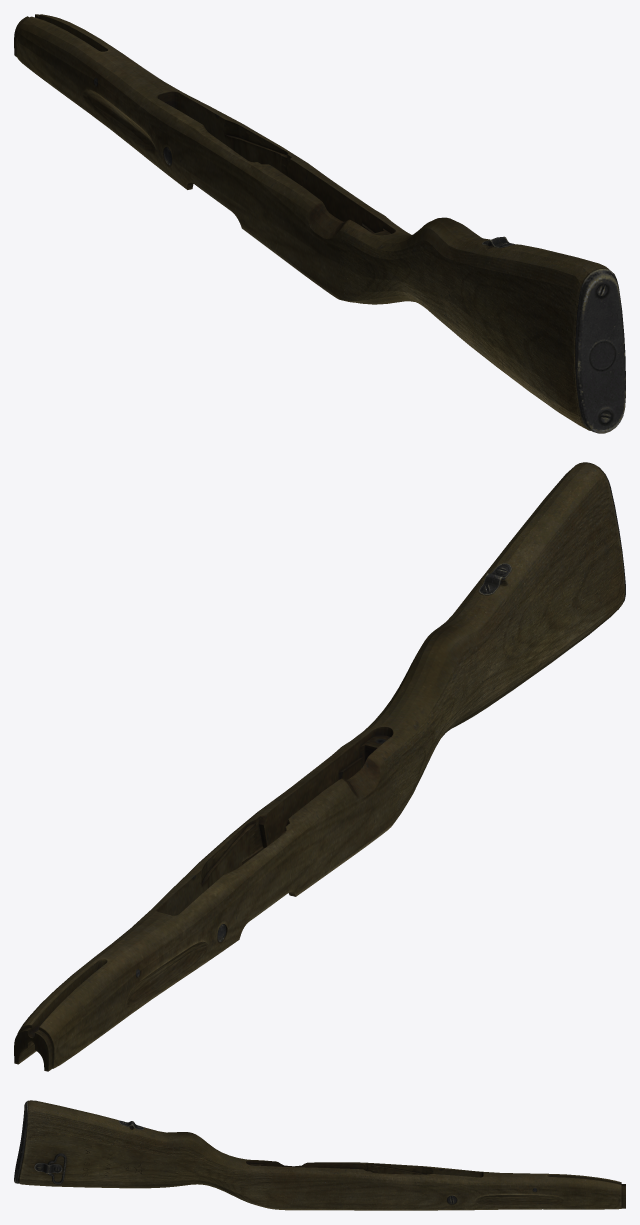
The picture shows the model from 3 angles, top to bottom: view 1: azimuth 30°, elevation 25°; view 2: azimuth 150°, elevation 25°; view 3: azimuth 270°, elevation 25°; orthographic projection. The views are drawn at different scales.
Parts seen in each view (by area): view 1: TW_587e0531245977466077a0f7_PZ_Import; view 2: TW_587e0531245977466077a0f7_PZ_Import; view 3: TW_587e0531245977466077a0f7_PZ_Import.
Boxes of the visible parts, x1,y1,x2,y2 form: TW_587e0531245977466077a0f7_PZ_Import: [14, 14, 625, 433]; TW_587e0531245977466077a0f7_PZ_Import: [14, 462, 625, 1071]; TW_587e0531245977466077a0f7_PZ_Import: [14, 1100, 625, 1210].
Bounding box in the file's own units: 0.0265 × 0.4268 × 0.0797.
Materials: 1 (1 with a texture image).
